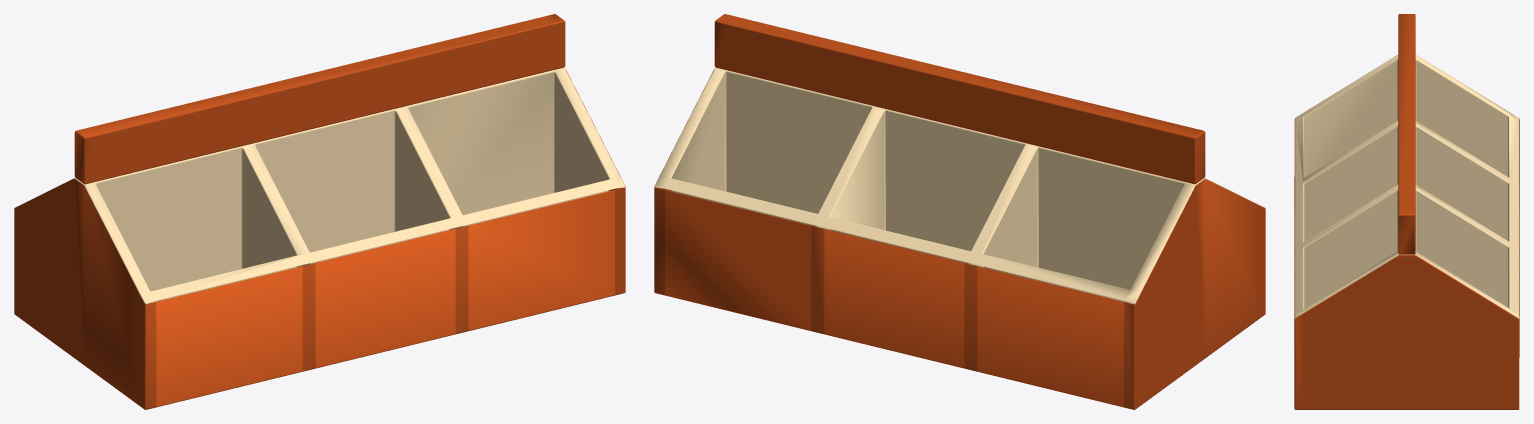
The model's file is ss-produce.lod0.glb.
3 renders of one model, left to right at view 1: azimuth 30°, elevation 25°; view 2: azimuth 150°, elevation 25°; view 3: azimuth 270°, elevation 25°, orthographic. The views are drawn at different scales.
Parts seen in each view (by area): view 1: Object_112, Object_111; view 2: Object_112, Object_111; view 3: Object_111, Object_112.
Boxes of the visible parts, x1=… form: Object_112: x1=14, y1=14, x2=625, y2=409; Object_111: x1=15, y1=67, x2=625, y2=304; Object_112: x1=654, y1=14, x2=1265, y2=409; Object_111: x1=654, y1=67, x2=1264, y2=304; Object_111: x1=1294, y1=55, x2=1519, y2=318; Object_112: x1=1294, y1=14, x2=1519, y2=409.
Bounding box in the file's own units: 2.41 × 1.09 × 1.14.
